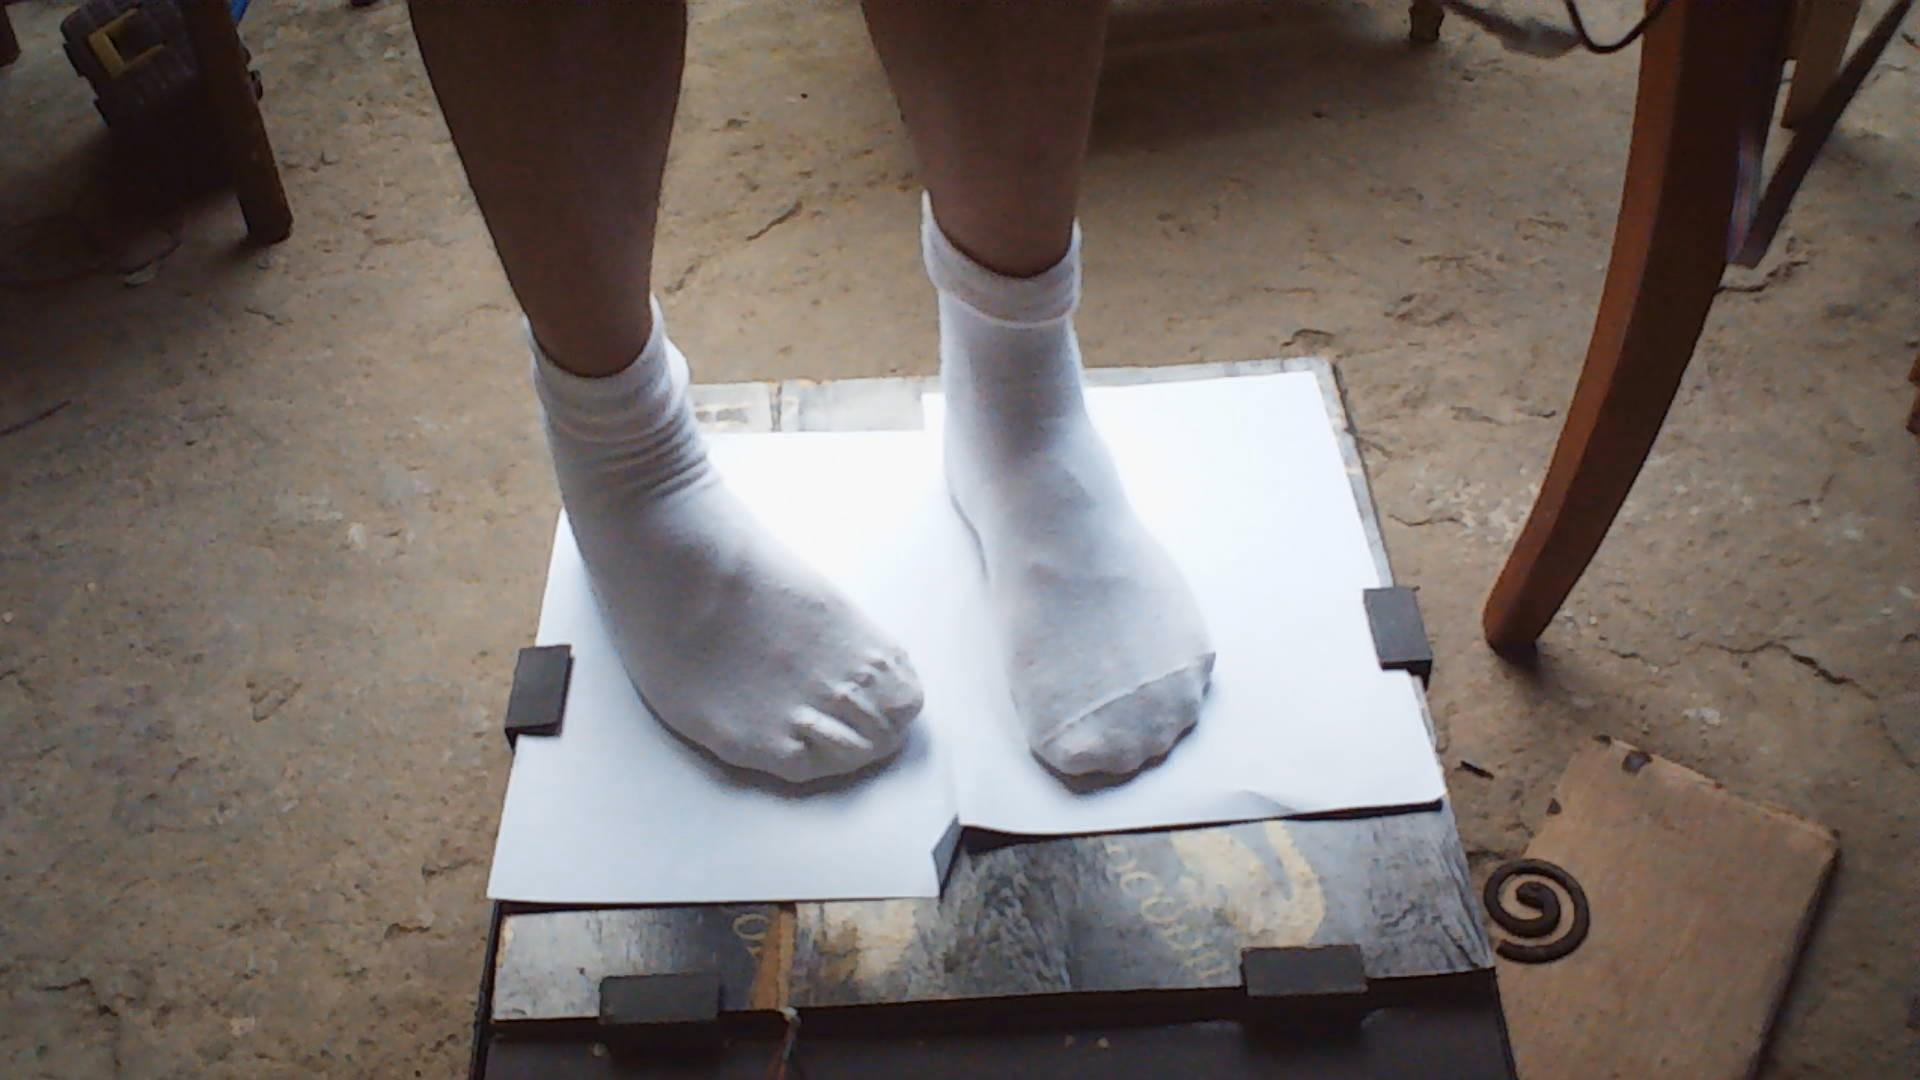white_socks: (885, 193, 1270, 804), (505, 287, 945, 820)
